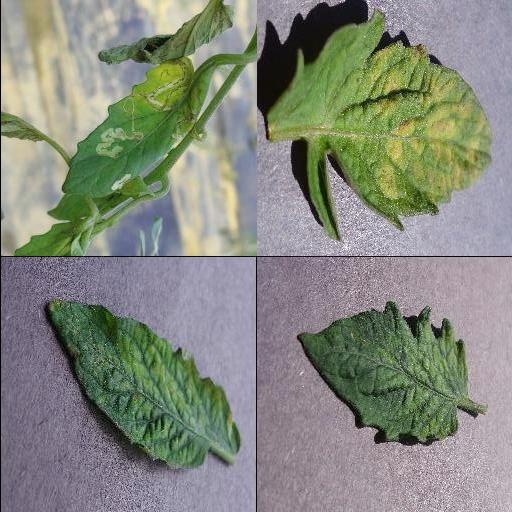Leaf Miner: (60, 57, 214, 199)
Leaf Mold: (268, 14, 494, 242)
Mosaic Virus: (45, 299, 243, 469), (294, 300, 468, 446)
